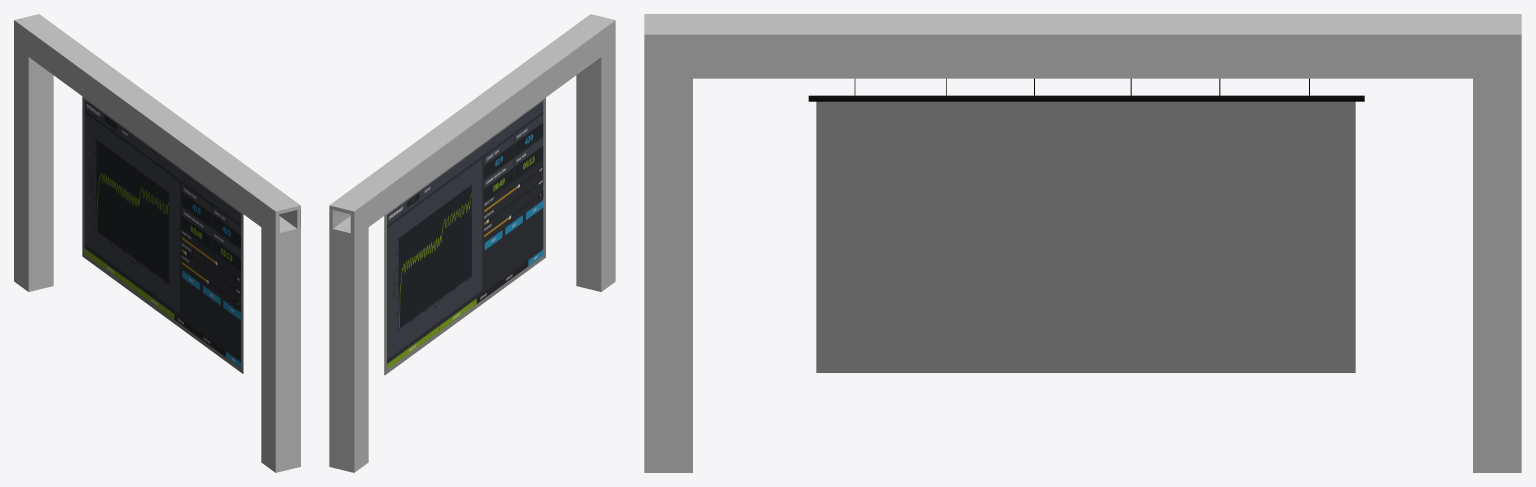
The model's file is TV_Stand_hall.FBX.
The picture shows the model from 3 angles, left to right: view 1: azimuth 30°, elevation 25°; view 2: azimuth 150°, elevation 25°; view 3: azimuth 270°, elevation 25°; orthographic projection. The views are drawn at different scales.
Visible parts, largest first — view 1: Box336, Box335, Box333, Box321, Box323, Box331, Box327, Box328, Box324, Box334, Box322; view 2: Box336, Box320, Box332, Box327, Box335, Box323, Box331, Box324, Box328; view 3: Box336, Box326, Box330, Box334, Box322, Box328, Box324, Cylinder001.
Part boxes in pixels (x1,y1,x2,y2): Box336: [82, 96, 243, 373]; Box335: [261, 227, 279, 472]; Box333: [279, 232, 297, 471]; Box321: [32, 59, 50, 291]; Box323: [14, 46, 31, 291]; Box331: [144, 117, 279, 237]; Box327: [14, 20, 145, 142]; Box328: [144, 109, 300, 214]; Box324: [14, 14, 168, 114]; Box334: [297, 228, 300, 467]; Box322: [50, 73, 53, 286]; Box336: [384, 98, 545, 375]; Box320: [329, 228, 354, 472]; Box332: [576, 57, 601, 291]; Box327: [350, 115, 485, 237]; Box335: [601, 47, 615, 291]; Box323: [354, 227, 368, 472]; Box331: [484, 20, 615, 142]; Box324: [329, 110, 483, 214]; Box328: [459, 14, 615, 116]; Box336: [816, 101, 1355, 372]; Box326: [1079, 34, 1521, 78]; Box330: [644, 34, 1086, 78]; Box334: [644, 72, 692, 472]; Box322: [1473, 72, 1521, 472]; Box328: [644, 14, 1086, 34]; Box324: [1086, 14, 1521, 34]; Cylinder001: [808, 95, 1364, 101].
Size of the model in its own units: 14.52 by 262 by 144.
